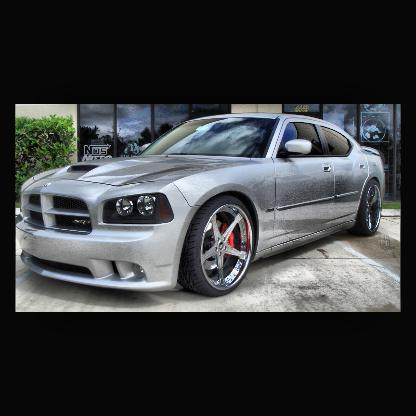Dodge Charger SRT-8 2009: (16, 114, 387, 299)
